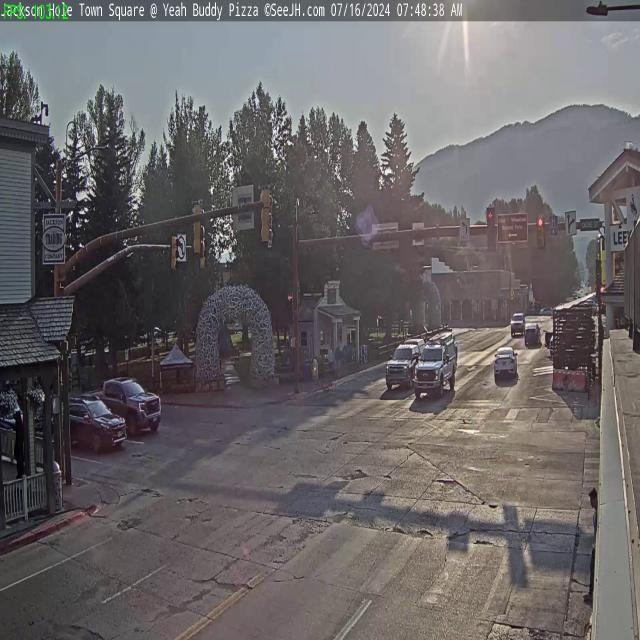pickup: (97, 381, 160, 434), (416, 336, 456, 404), (386, 336, 426, 392)
sedan: (492, 346, 518, 381)
suv: (64, 398, 126, 454), (524, 322, 541, 345)
traffic light: (190, 199, 203, 256), (260, 185, 272, 245), (486, 207, 496, 252), (169, 235, 178, 272), (536, 215, 545, 248)
